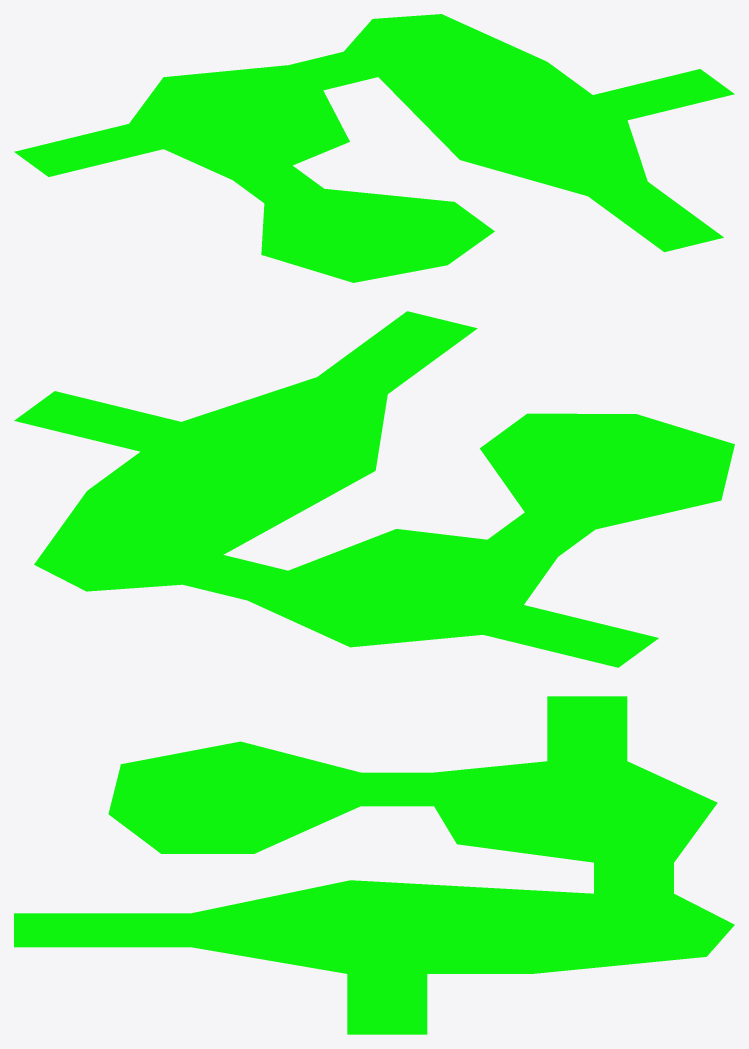
File: s03b_tc3-floor.glb
3 views of the same model, one above another, from view 1: azimuth 30°, elevation 25°; view 2: azimuth 150°, elevation 25°; view 3: azimuth 270°, elevation 25° (orthographic). The views are drawn at different scales.
Parts seen in each view (by area): view 1: collision_floor-colonly; view 2: collision_floor-colonly; view 3: collision_floor-colonly.
Part boxes in pixels (x1,y1,x2,y2): collision_floor-colonly: [14, 14, 734, 282]; collision_floor-colonly: [14, 311, 734, 667]; collision_floor-colonly: [14, 696, 734, 1034].
Size of the model in its own units: 60 by 0 by 54.07.
